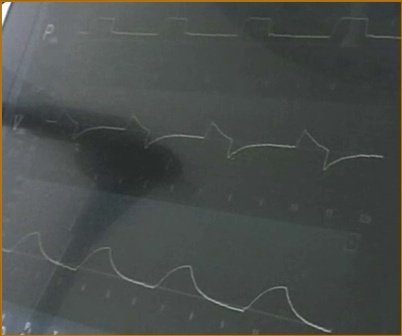Normal Flow: (46, 94, 385, 186)
Normal Volume: (3, 221, 328, 331)
